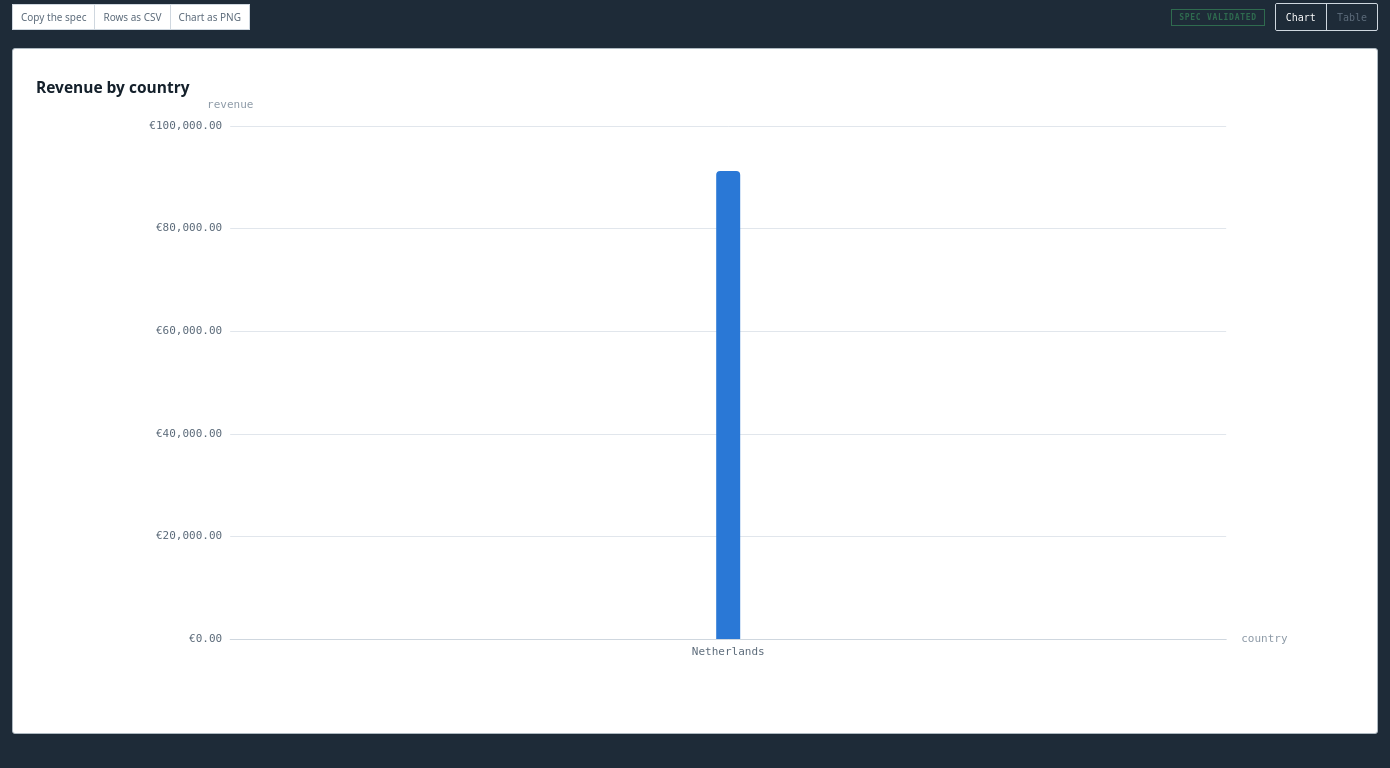
Scenario: clicking a mark › shows the source's own number in the table, whatever the chart's format says
Step 1. Click the button "Table" → (1351, 17), box [1326,4,1377,30]
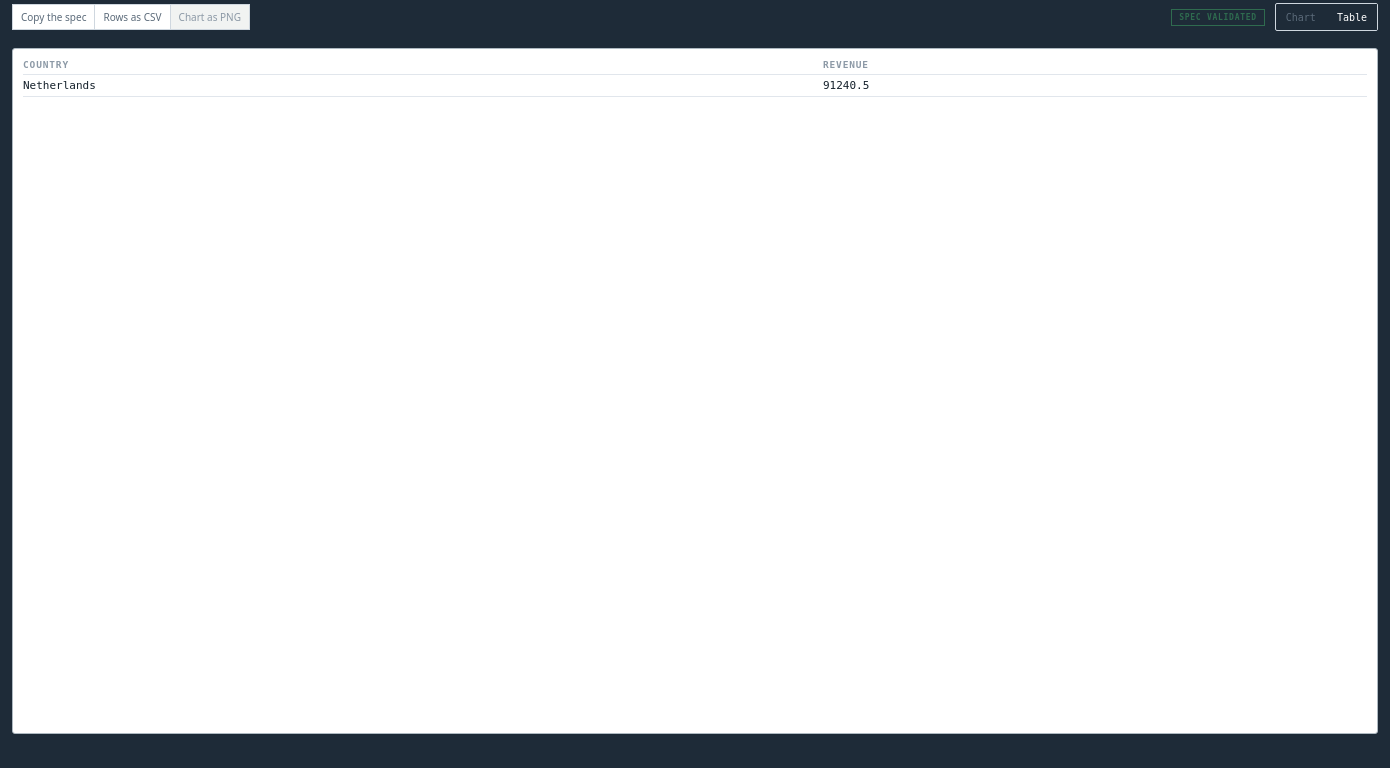
Check: the text "91240.5" is shown, box [823,74,1367,96]
